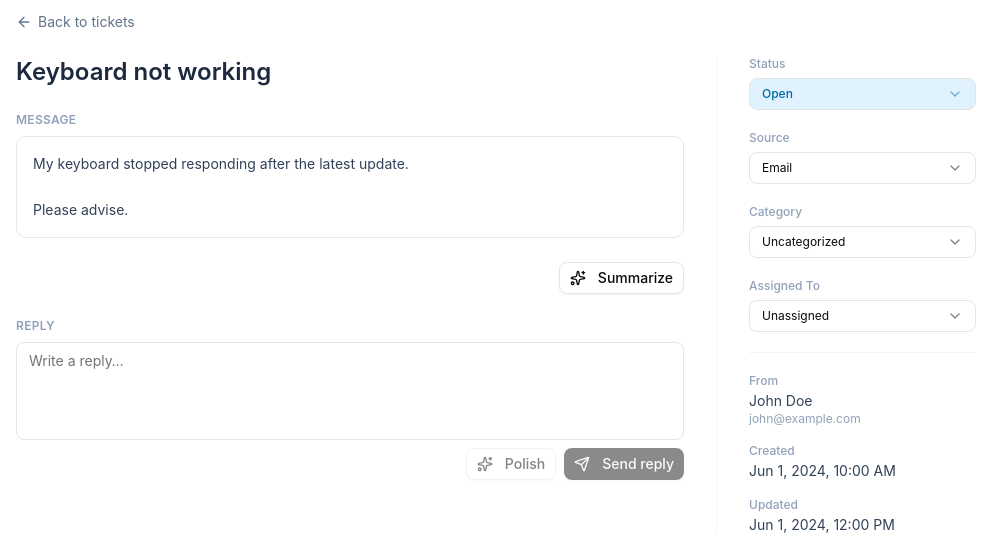
TicketDetailPage › reply form › shows 'Failed to send reply' when the POST fails
Expected: the heading "Keyboard not working" is shown, x1=16 y1=57 x2=271 y2=86
Type "Hello!" into the text box with placeholder "Write a reply…" at {"x": 350, "y": 391}, box x1=16 y1=342 x2=684 y2=440
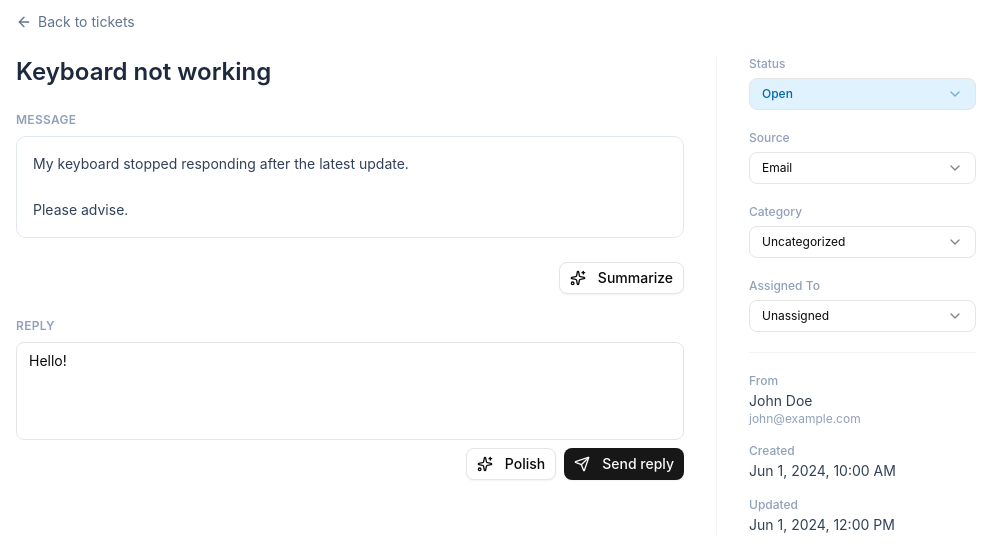
Click the button "Send reply" at {"x": 624, "y": 464}, box x1=564 y1=448 x2=684 y2=480
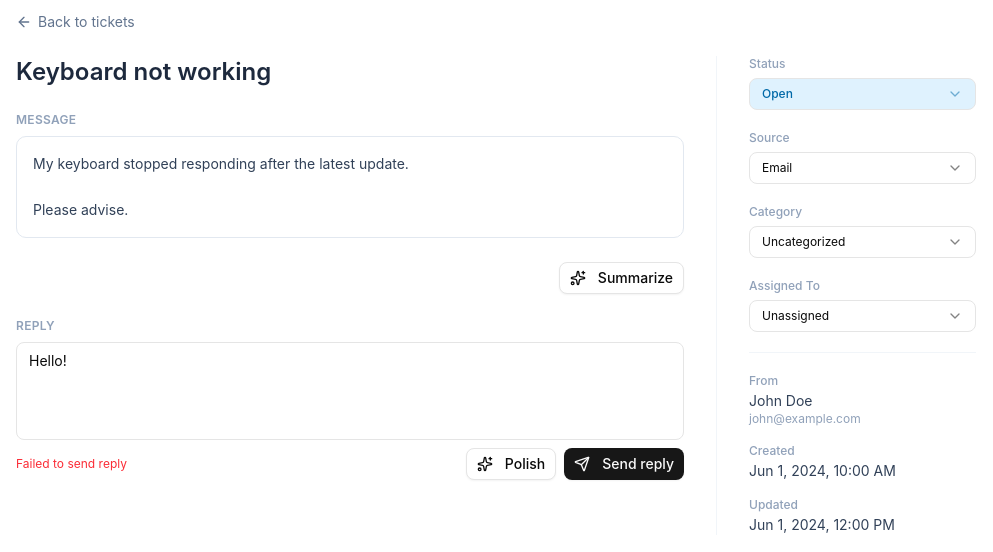
Expected: the text "Failed to send reply" is shown, x1=16 y1=456 x2=127 y2=472
